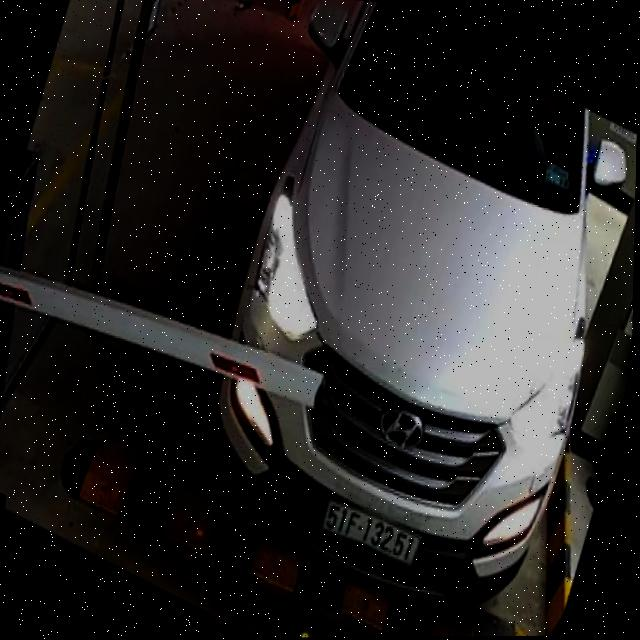car: (185, 0, 640, 625)
plate: (313, 495, 427, 572)
